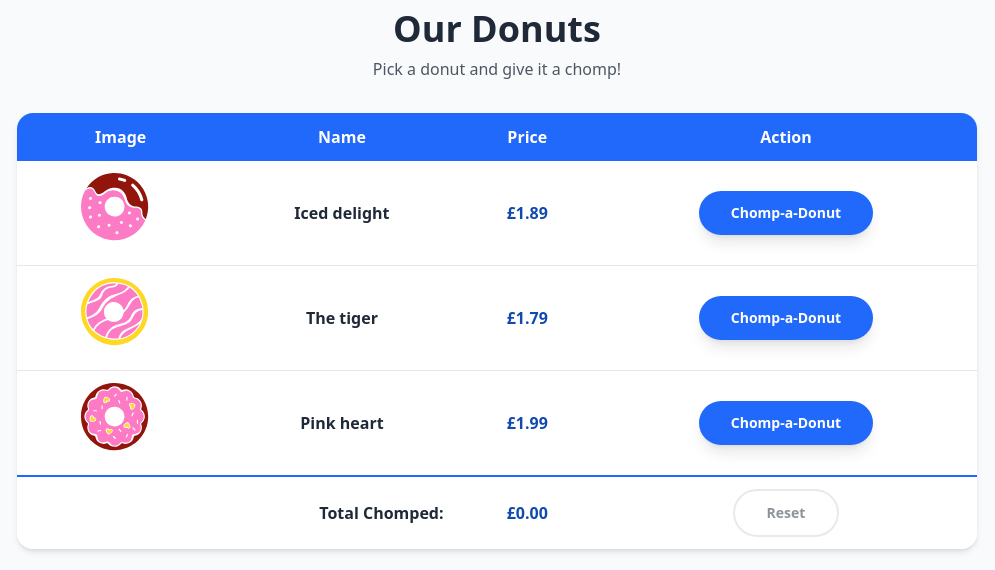
Test: MenuPage › enables Reset button after chomping and resets state on click
This screenshot has width=995, height=570.
Check: the text "Pink heart" is shown, box [224,370,460,476]
Step 1. Click the button "Chomp-a-Donut" in the row of "Iced delight" → [786, 213], box [699,191,873,235]
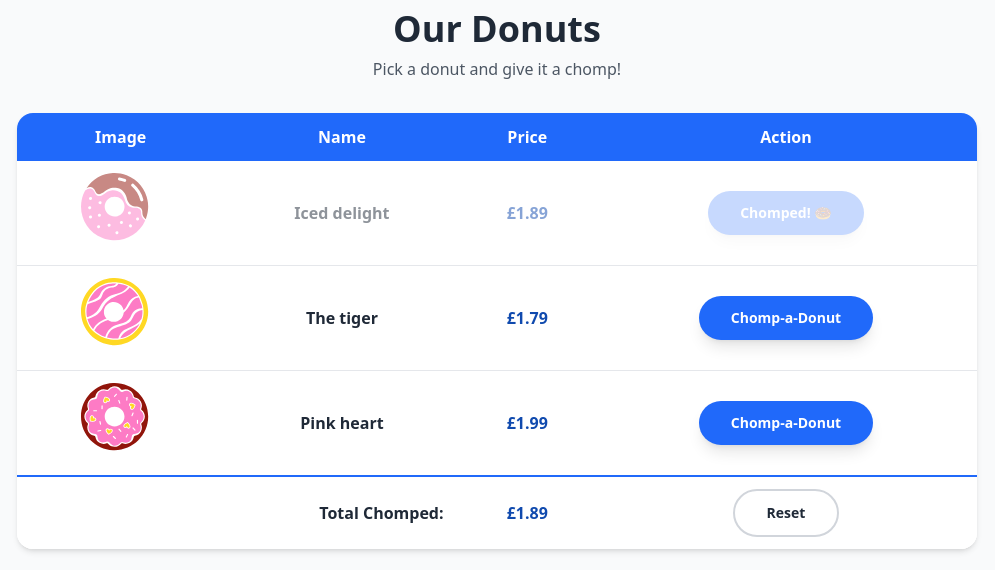
Check: the button "Reset" is enabled
Step 2. Click the button "Reset" → [786, 513], box [733,489,839,537]
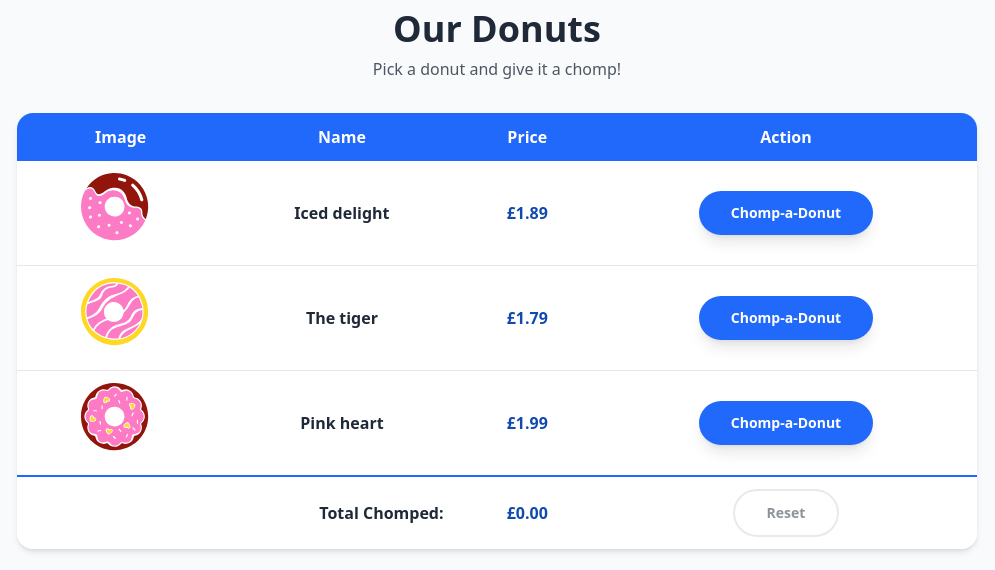
Check: the button "Reset" is disabled, box [733,489,839,537]
Check: the text "£0.00" is shown, box [460,476,595,549]
